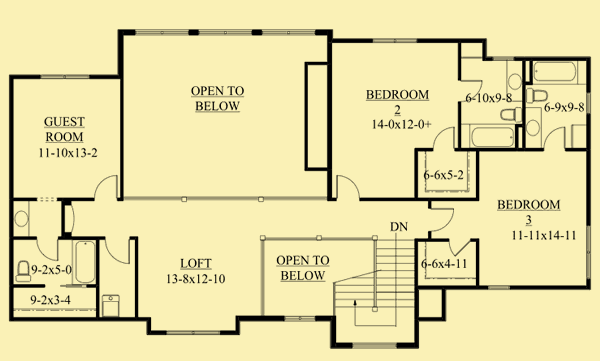door: (103, 236, 131, 266), (91, 173, 120, 201), (335, 174, 363, 203), (428, 205, 455, 234), (35, 235, 60, 265), (543, 126, 568, 153), (458, 78, 484, 103), (430, 126, 458, 149), (449, 236, 471, 257)
large_sink: (524, 86, 550, 106), (15, 260, 34, 285), (500, 107, 524, 125)
small_sink: (13, 201, 33, 237), (505, 61, 521, 103)
stairs: (333, 239, 416, 343)
tub: (71, 238, 98, 288), (468, 123, 518, 148), (532, 62, 578, 86)
window: (350, 340, 398, 351), (282, 315, 317, 323)
